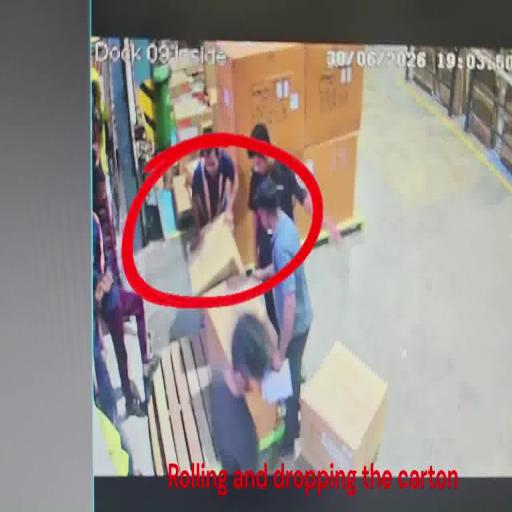carton: (296, 344, 390, 482), (204, 294, 284, 441), (216, 45, 302, 175), (301, 47, 364, 152), (294, 132, 358, 234), (185, 212, 244, 296), (234, 160, 258, 265), (204, 52, 218, 112)
forklift: (90, 38, 190, 252)
pallet: (147, 335, 220, 477), (306, 214, 366, 252)
person: (246, 122, 340, 340), (248, 187, 313, 461), (91, 203, 153, 424), (210, 313, 278, 476), (188, 134, 238, 236)
